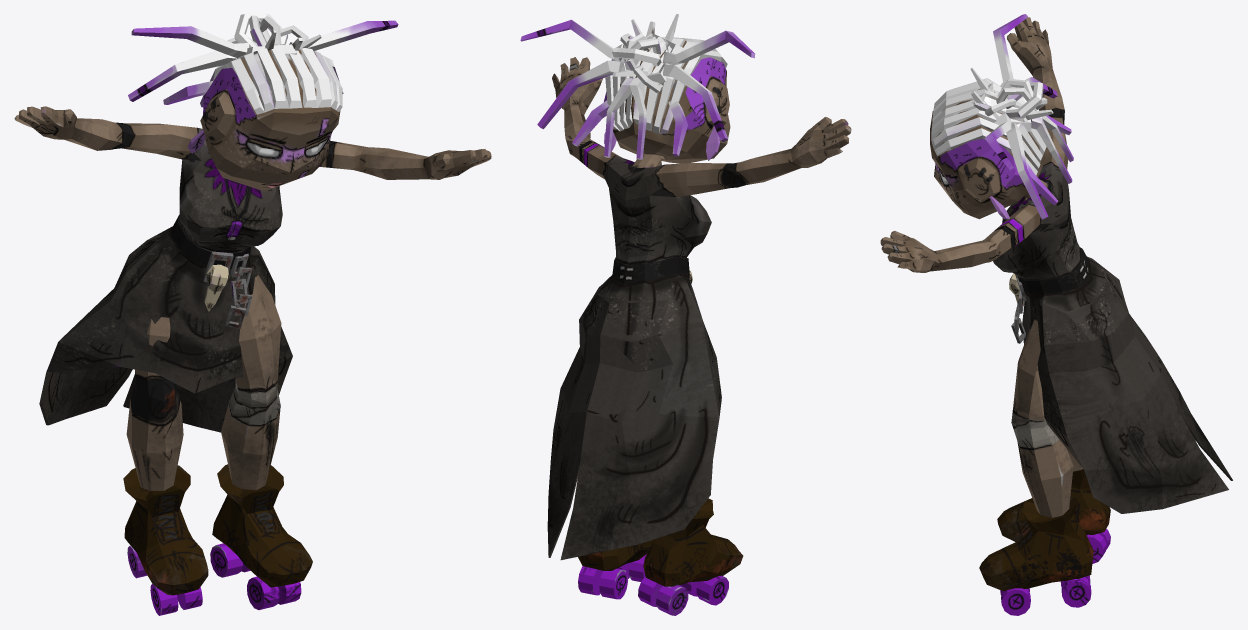
Rendered from bruja_000164.obj.
3 renders of one model, left to right at view 1: azimuth 30°, elevation 25°; view 2: azimuth 150°, elevation 25°; view 3: azimuth 270°, elevation 25°, orthographic. The views are drawn at different scales.
Parts seen in each view (by area): view 1: Bruja_Plane.001; view 2: Bruja_Plane.001; view 3: Bruja_Plane.001.
Boxes of the visible parts, x1=… form: Bruja_Plane.001: x1=14, y1=14, x2=491, y2=615; Bruja_Plane.001: x1=520, y1=14, x2=851, y2=615; Bruja_Plane.001: x1=880, y1=14, x2=1232, y2=615.
Size of the model in its own units: 11.23 by 16.48 by 9.79.
